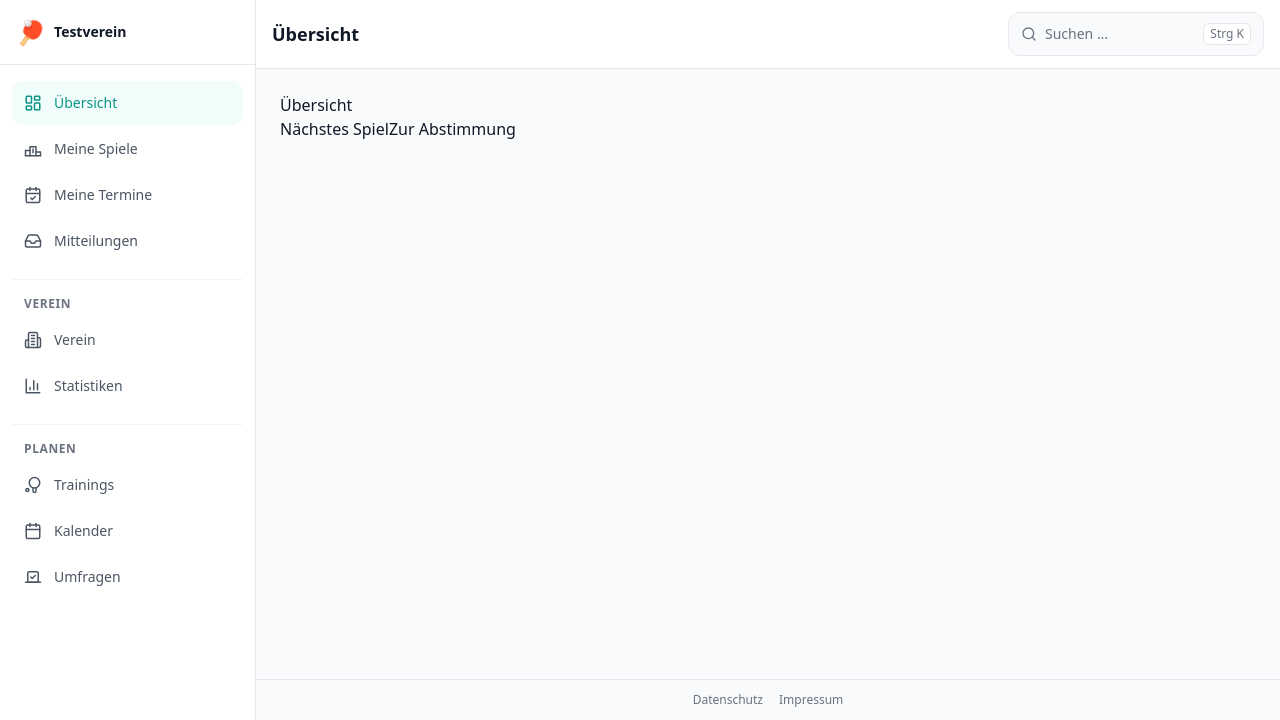
Test: Einzelansicht als Blatt › der Schließen-Knopf geht einen Schritt zurück, statt einen neuen anzulegen
Click the link "Nächstes Spiel": click(334, 129) [280,118,389,140]
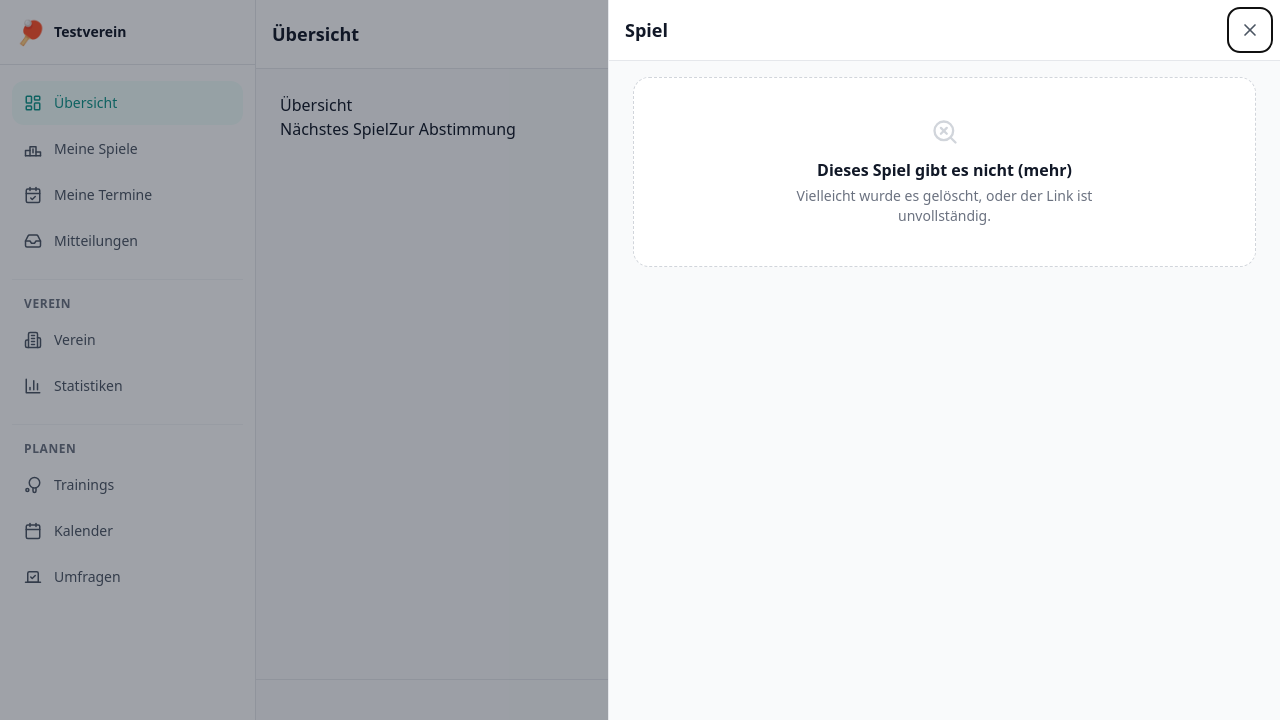
Click the button named "Schließen": click(1250, 30) [1228,8,1272,52]
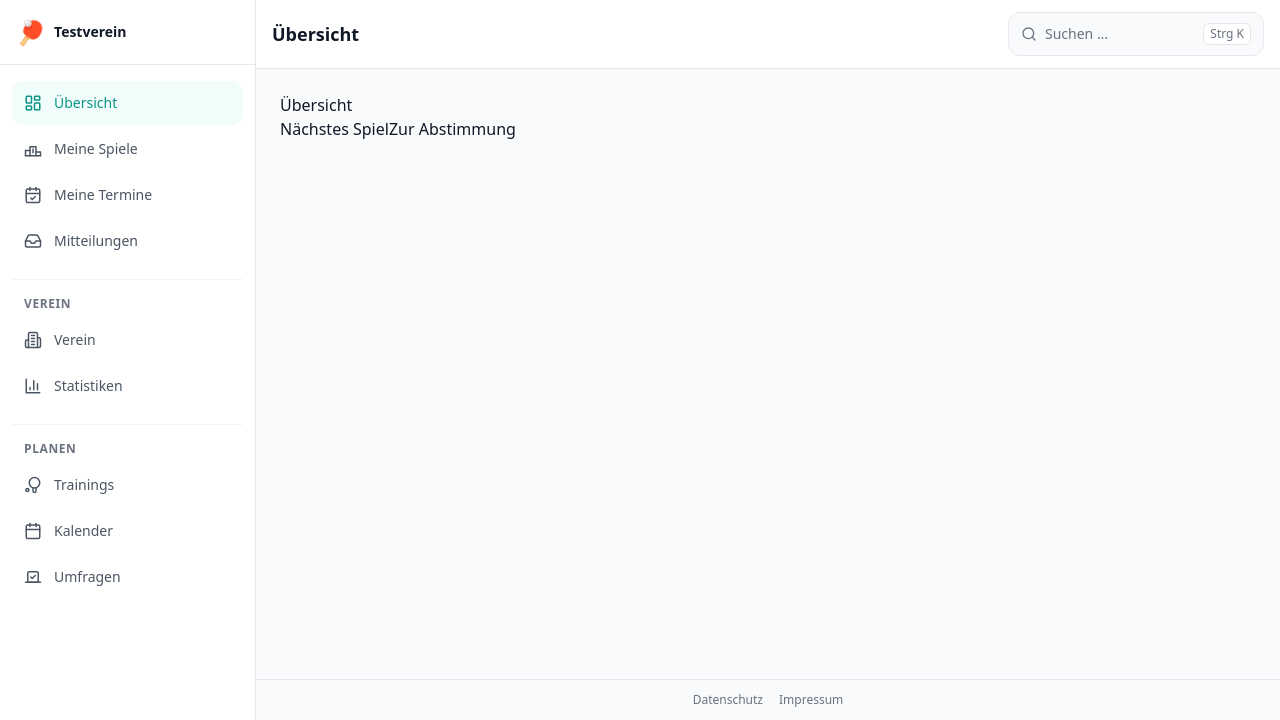
Expected: the dialog is gone
